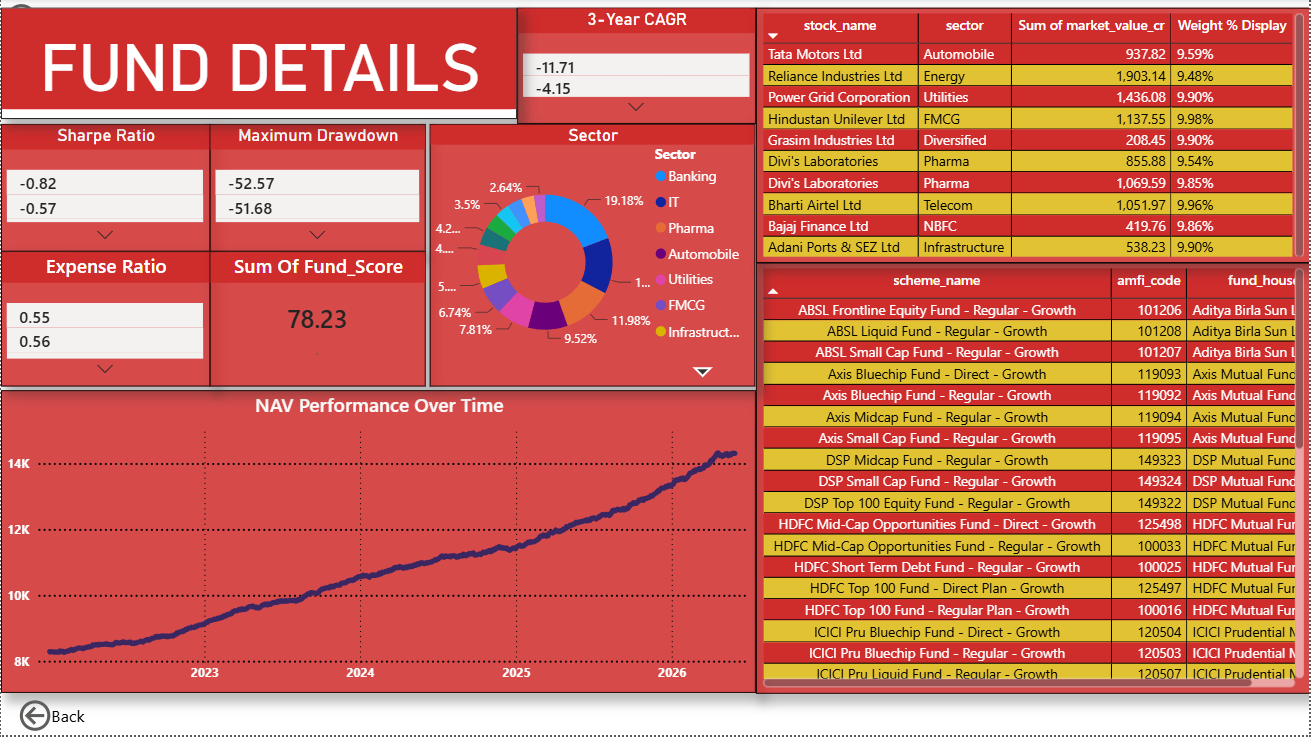

The page's visual inventory and layout, read from the dashboard file:
{"tool":"powerbi","page":{"name":"Fund Details","canvas":[1280,720],"ordinal":8},"visuals":[{"type":"lineChart","title":"NAV Performance Over Time","fields":{"Y":["Sum(clean_nav.nav)"],"Category":["clean_nav.date"]},"box":[0,382.8,738.3,296.4],"z":0},{"type":"actionButton","box":[0,0,100,40],"z":1000},{"type":"cardVisual","title":"Sharpe Ratio","fields":{"Rows":["fund_scorecard.sharpe_ratio"]},"box":[0,122.1,204.5,125],"z":2000},{"type":"cardVisual","title":"3-Year CAGR","fields":{"Rows":["fund_scorecard.3-Year CAGR"]},"box":[505,8.2,233.3,113.9],"z":3000},{"type":"cardVisual","title":"Maximum Drawdown","fields":{"Rows":["fund_scorecard.Maximum Drawdown"]},"box":[204.5,122.1,211,125],"z":4000},{"type":"cardVisual","title":"Expense Ratio","fields":{"Rows":["fund_scorecard.Expense Ratio (%)"]},"box":[0,247,204.5,131.7],"z":5000},{"type":"cardVisual","title":"Sum Of Fund_Score","fields":{"Data":["fund_scorecard.Selected Fund Score"]},"box":[204.5,247,211,131.7],"z":6000},{"type":"tableEx","fields":{"Values":["fund_scorecard.scheme_name_x","clean_fund_master.amfi_code","clean_fund_master.fund_house"]},"box":[738.3,258,542,421.3],"z":7000},{"type":"textbox","title":"FUND DETAILS","box":[0,8.2,505,108.4],"z":8000},{"type":"donutChart","title":"Sector","fields":{"Category":["clean_portfolio_holdings.sector"],"Y":["Sum(clean_portfolio_holdings.weight_pct)"]},"box":[419.9,122.1,318.4,256.6],"z":9000},{"type":"tableEx","fields":{"Values":["clean_portfolio_holdings.stock_name","clean_portfolio_holdings.sector","Sum(clean_portfolio_holdings.market_value_cr)","clean_portfolio_holdings.Weight % Display"]},"box":[738.3,8.2,542,249.7],"z":10000},{"type":"actionButton","box":[13.7,680.6,100.2,39.8],"z":11000}]}

Visuals, with their boxes in screenshot pixels (x1, y1, x2, y2), scaled from the page's 1280x720 canvas onto the 1311x738 screenshot:
"NAV Performance Over Time" lineChart: <bbox>0, 392, 756, 696</bbox>
actionButton: <bbox>0, 0, 102, 41</bbox>
"Sharpe Ratio" cardVisual: <bbox>0, 125, 209, 253</bbox>
"3-Year CAGR" cardVisual: <bbox>517, 8, 756, 125</bbox>
"Maximum Drawdown" cardVisual: <bbox>209, 125, 426, 253</bbox>
"Expense Ratio" cardVisual: <bbox>0, 253, 209, 388</bbox>
"Sum Of Fund_Score" cardVisual: <bbox>209, 253, 426, 388</bbox>
tableEx - fund_scorecard.scheme_name_x x clean_fund_master.amfi_code: <bbox>756, 264, 1310, 696</bbox>
"FUND DETAILS" textbox: <bbox>0, 8, 517, 120</bbox>
"Sector" donutChart: <bbox>430, 125, 756, 388</bbox>
tableEx - clean_portfolio_holdings.stock_name x clean_portfolio_holdings.sector: <bbox>756, 8, 1310, 264</bbox>
actionButton: <bbox>14, 698, 117, 737</bbox>
